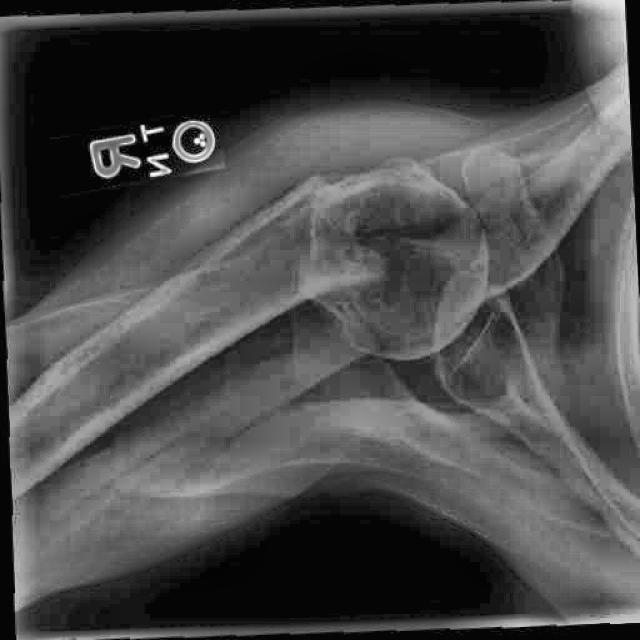shoulder fracture: (267, 136, 427, 336)
